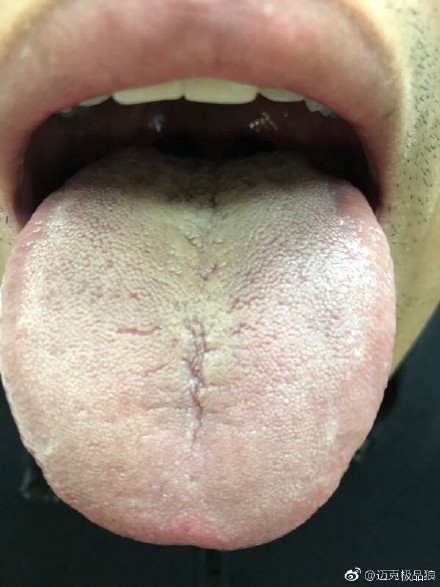huangtaishe: (1, 135, 397, 551)
liewenshe: (115, 262, 216, 446)
